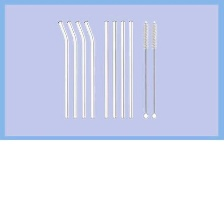drinking_straw: (54, 18, 72, 120), (101, 19, 110, 119)
